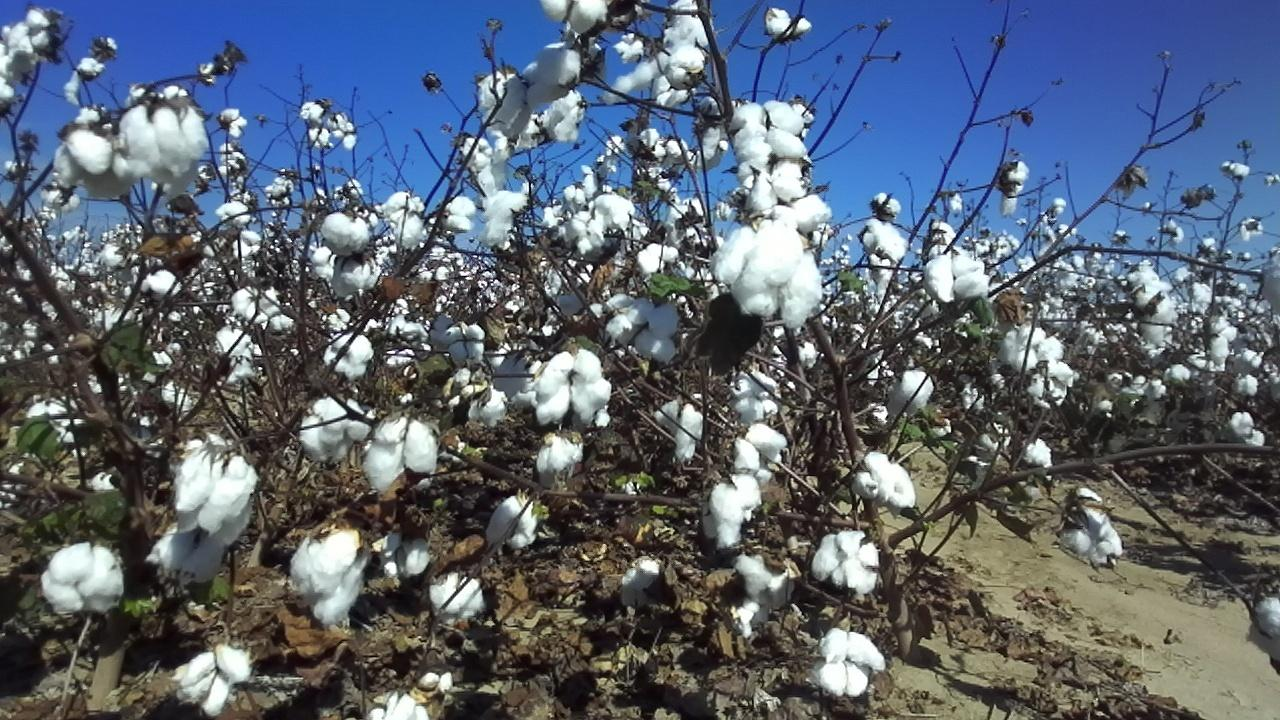cotton_ready: (709, 225, 824, 330), (604, 0, 710, 103), (120, 101, 207, 197), (175, 447, 260, 543), (289, 529, 372, 626), (40, 542, 127, 617), (726, 550, 797, 639), (367, 414, 440, 495), (172, 644, 252, 715), (810, 628, 890, 699), (748, 170, 834, 234), (55, 130, 131, 201), (320, 212, 383, 297), (536, 350, 610, 422), (559, 194, 635, 261), (733, 97, 805, 166), (148, 527, 232, 586), (299, 397, 372, 463), (813, 530, 881, 593), (650, 390, 705, 467), (1127, 267, 1177, 349), (710, 470, 760, 550), (476, 67, 532, 138), (527, 40, 585, 106), (1060, 510, 1125, 567), (859, 452, 917, 511), (629, 299, 681, 363), (925, 254, 989, 305), (1000, 324, 1067, 371), (730, 424, 785, 478), (465, 134, 515, 189), (429, 572, 484, 622), (481, 189, 530, 245), (539, 0, 612, 37), (491, 495, 539, 546), (324, 330, 375, 378), (732, 367, 779, 419), (382, 537, 431, 585), (885, 367, 935, 414), (9, 4, 52, 58), (494, 354, 543, 401), (384, 190, 425, 246), (540, 92, 585, 143), (621, 557, 665, 609), (1247, 594, 1280, 663), (589, 295, 636, 341), (665, 44, 705, 88), (367, 694, 432, 720), (443, 325, 487, 363), (0, 44, 25, 105), (447, 192, 475, 235)
